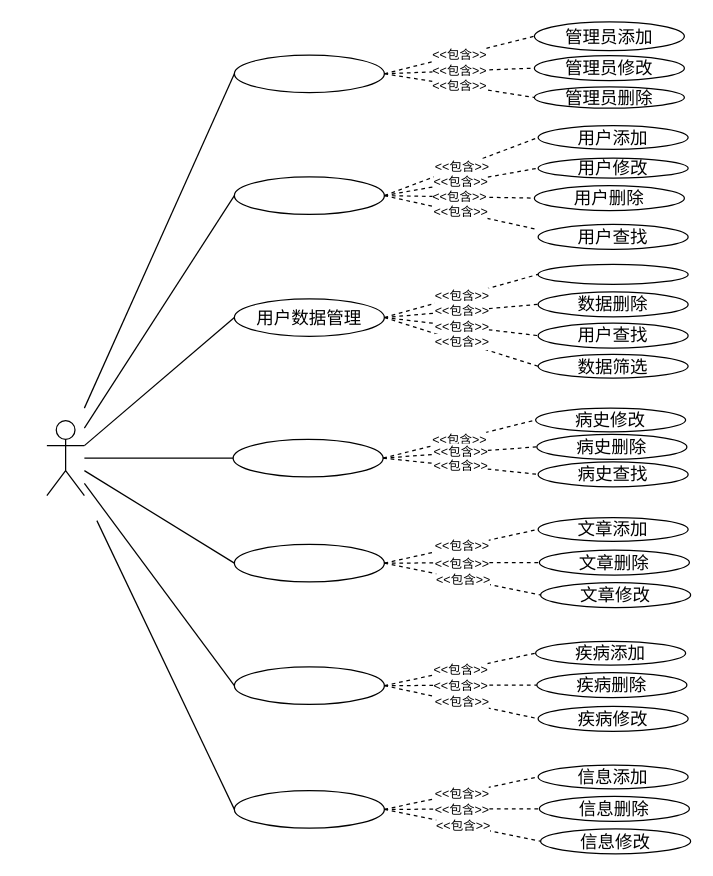
This 713x876 diagram has some shape labels left out. Here are the shapes that lost their labels. From the top down, the centre of each, then its label:
the point at 308,73: 管理员管理
the point at 308,195: 用户信息管理
the point at 612,273: 数据修改
the point at 65,457: 超级管理员
the point at 307,457: 用户病史管理
the point at 308,562: 科普文章管理
the point at 308,685: 疾病类型管理
the point at 308,808: 健康教育
